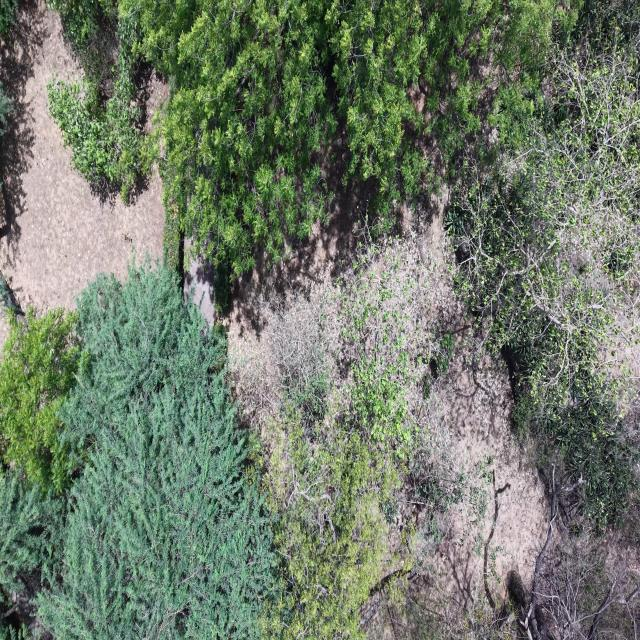DRY_AREA: (0, 0, 164, 311), (427, 341, 548, 606)
VEGETATION_TREE: (0, 0, 639, 639), (0, 242, 492, 637), (2, 243, 465, 637), (51, 0, 574, 274), (127, 0, 553, 274), (233, 241, 520, 638), (0, 267, 275, 638), (448, 26, 639, 525), (231, 240, 469, 638), (448, 38, 637, 531), (39, 268, 274, 638), (235, 285, 399, 638), (262, 239, 452, 458), (267, 413, 399, 639), (369, 531, 639, 639), (419, 0, 576, 179), (48, 0, 154, 201), (338, 241, 437, 455), (514, 372, 639, 530), (0, 309, 79, 493), (0, 468, 65, 639), (539, 535, 637, 638), (262, 290, 333, 432), (0, 470, 61, 596), (50, 0, 117, 73), (163, 208, 185, 282), (0, 274, 22, 316), (0, 83, 13, 150), (0, 83, 12, 151), (0, 83, 12, 144), (0, 83, 12, 143), (0, 84, 12, 137), (0, 0, 17, 36), (2, 626, 28, 639)
